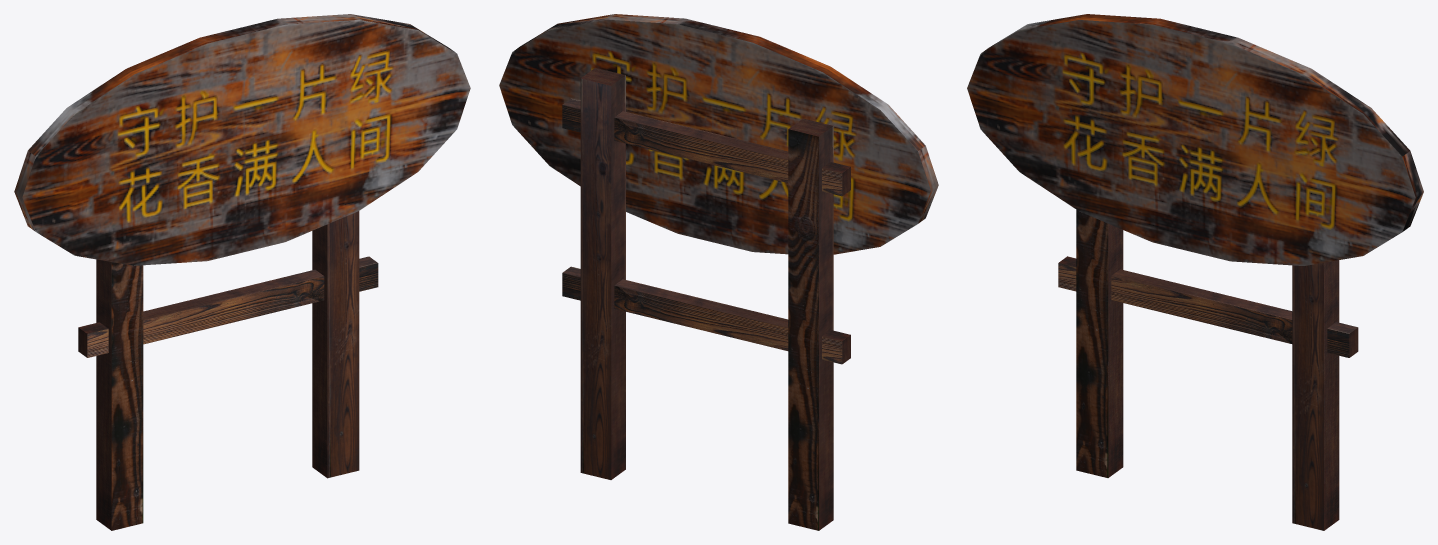
Rendered from Prop_RoadGuide13.FBX.
3 renders of one model, left to right at view 1: azimuth 30°, elevation 25°; view 2: azimuth 150°, elevation 25°; view 3: azimuth 330°, elevation 25°, orthographic. The views are drawn at different scales.
Parts seen in each view (by area): view 1: Prop_RoadGuide13; view 2: Prop_RoadGuide13; view 3: Prop_RoadGuide13.
Boxes of the visible parts, x1,y1,x2,y2 form: Prop_RoadGuide13: (14,14,470,530); Prop_RoadGuide13: (499,14,938,530); Prop_RoadGuide13: (967,14,1423,530).
Size of the model in its own units: 119 by 11.55 by 120.
